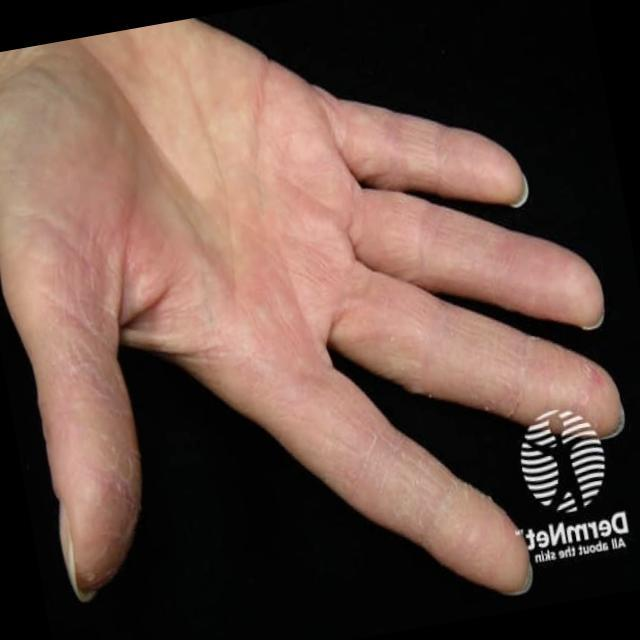Eczema: (22, 44, 457, 531)
